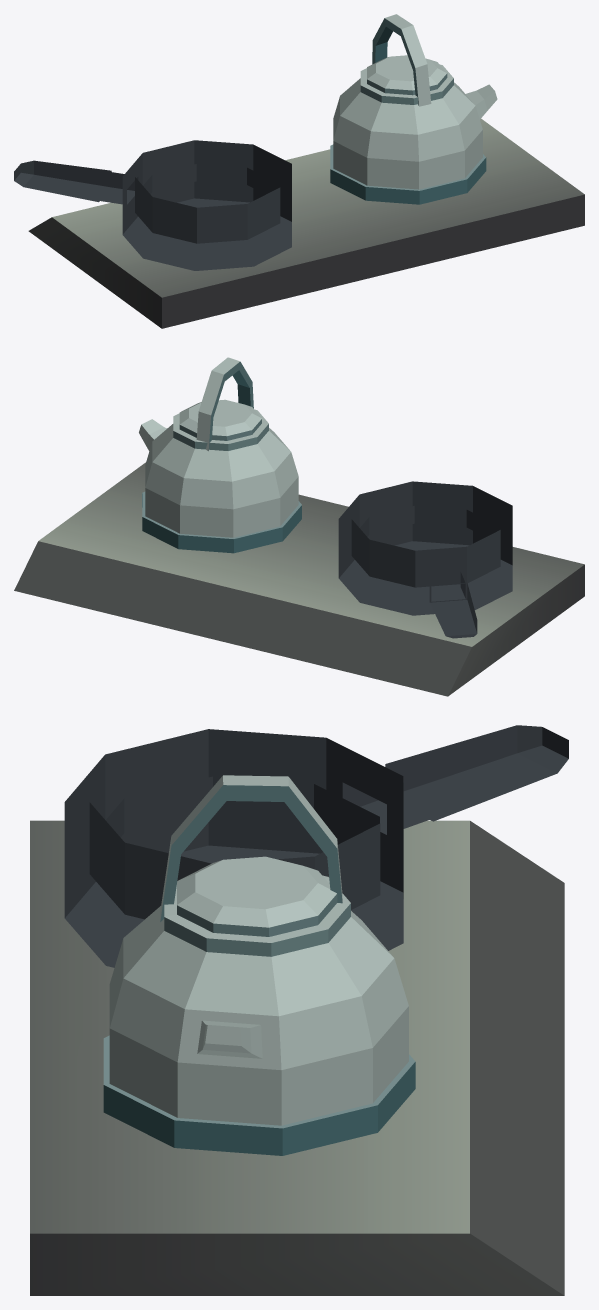
File: kompor.glb
3 views of the same model, one above another, from view 1: azimuth 30°, elevation 25°; view 2: azimuth 150°, elevation 25°; view 3: azimuth 270°, elevation 25° (orthographic). The views are drawn at different scales.
Visible parts, largest first — view 1: Plane022; view 2: Plane022; view 3: Plane022.
Boxes of the visible parts, x1=… form: Plane022: x1=14, y1=14, x2=584, y2=328; Plane022: x1=14, y1=357, x2=584, y2=696; Plane022: x1=30, y1=725, x2=568, y2=1295.
Size of the model in its own units: 0.7437 by 0.3132 by 0.3919.
1 material, 1 textured.
